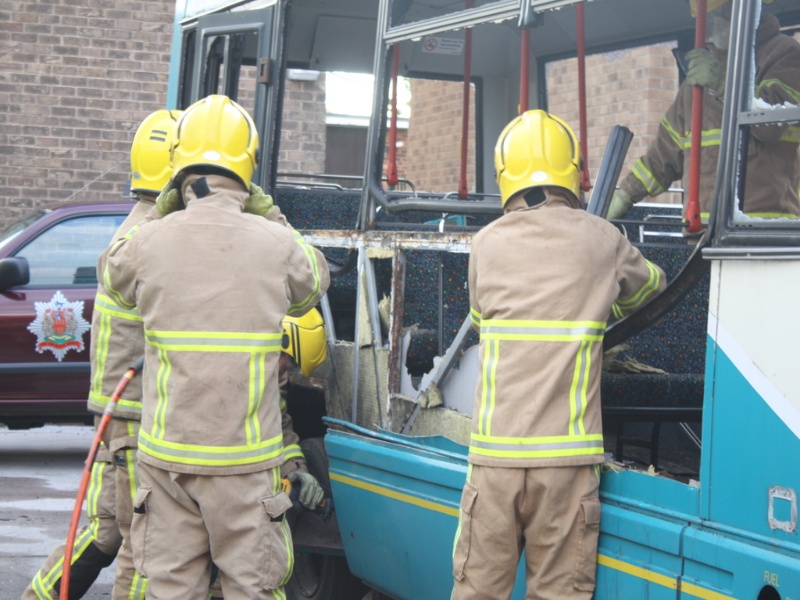helmet: (172, 95, 259, 182), (497, 108, 576, 195), (130, 110, 178, 189)
jacket: (136, 207, 302, 467), (477, 206, 609, 459), (89, 222, 147, 429)
